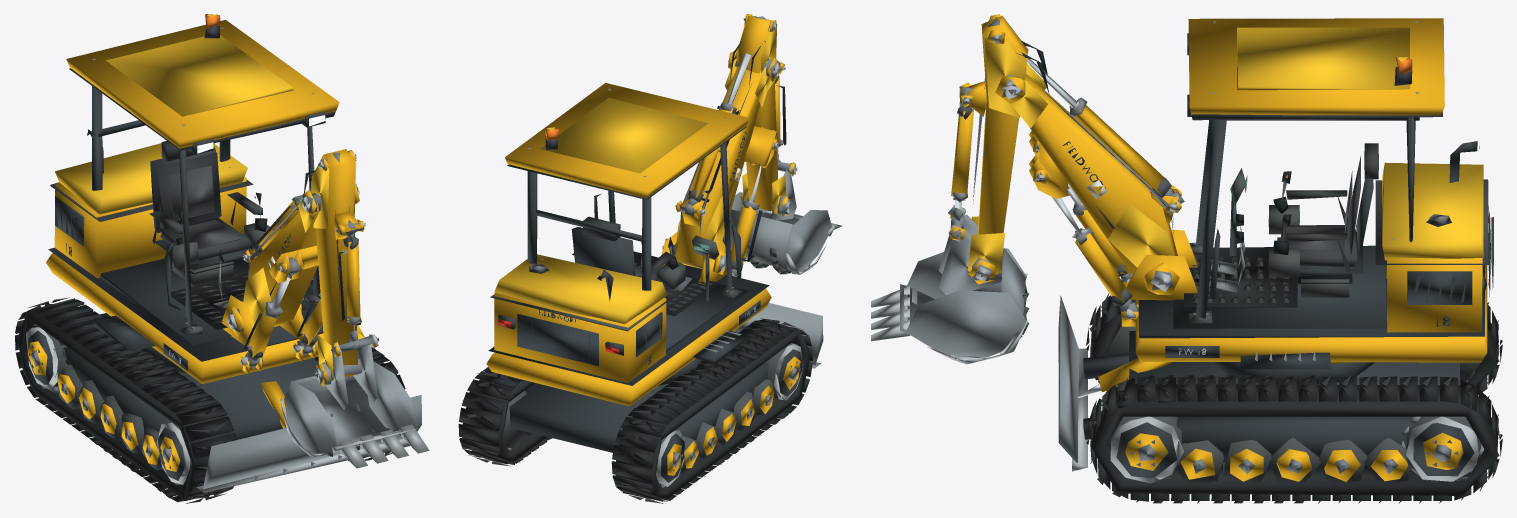
The model's file is excavator.glb.
3 renders of one model, left to right at view 1: azimuth 30°, elevation 25°; view 2: azimuth 150°, elevation 25°; view 3: azimuth 270°, elevation 25°, orthographic. The views are drawn at different scales.
Visible parts, largest first — view 1: excavator; view 2: excavator; view 3: excavator.
Part boxes in pixels (x1=…): excavator: x1=15, y1=14, x2=429, y2=503; excavator: x1=458, y1=14, x2=842, y2=503; excavator: x1=871, y1=14, x2=1502, y2=503.
Size of the model in its own units: 2.2 by 3.5 by 4.74.
